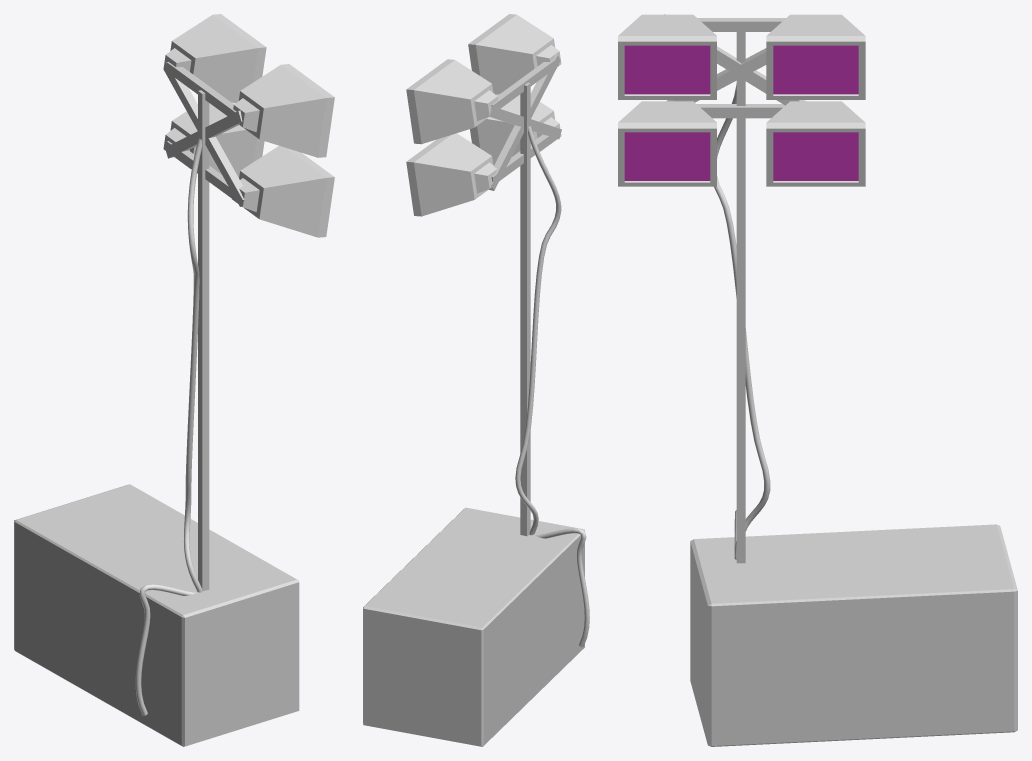
File: Small_Standing_Light.fbx
3 views of the same model, side by side, from view 1: azimuth 30°, elevation 25°; view 2: azimuth 150°, elevation 25°; view 3: azimuth 270°, elevation 25° (orthographic). The views are drawn at different scales.
Parts seen in each view (by area): view 1: Cube.008, Cube.003, Cube.001, Cube.007, Cube.000, BezierCurve, Cube.002, Cube.005, Cube, Cube.006, Cube.004; view 2: Cube.008, Cube.000, Cube.002, Cube.003, Cube.007, BezierCurve, Cube.001, Cube.006, Cube, Cube.004, Cube.005; view 3: Cube.008, Cube.002, Cube.000, Cube.001, Cube.003, Cube.007, BezierCurve, Cube.004, Cube, Cube.005, Cube.006.
Part boxes in pixels (box(x1,y1,x2,y2)): Cube.008: box(14, 484, 299, 746); Cube.003: box(233, 64, 334, 157); Cube.001: box(232, 145, 334, 237); Cube.007: box(198, 90, 209, 591); Cube.000: box(163, 14, 266, 103); BezierCurve: box(135, 138, 202, 715); Cube.002: box(163, 102, 264, 177); Cube.005: box(163, 62, 245, 206); Cube: box(167, 62, 239, 124); Cube.006: box(165, 110, 242, 158); Cube.004: box(167, 141, 239, 203); Cube.008: box(363, 507, 584, 746); Cube.000: box(406, 59, 498, 144); Cube.002: box(406, 133, 499, 216); Cube.003: box(468, 14, 561, 94); Cube.007: box(520, 82, 530, 536); BezierCurve: box(515, 125, 589, 647); Cube.001: box(470, 94, 561, 165); Cube.006: box(488, 54, 560, 190); Cube: box(491, 59, 558, 113); Cube.004: box(491, 129, 558, 185); Cube.005: box(489, 106, 561, 139); Cube.008: box(690, 524, 1017, 746); Cube.002: box(766, 101, 865, 186); Cube.000: box(766, 14, 865, 99); Cube.001: box(618, 101, 716, 186); Cube.003: box(618, 14, 716, 99); Cube.007: box(736, 32, 745, 563); BezierCurve: box(714, 84, 770, 559); Cube.004: box(697, 104, 784, 118); Cube: box(697, 18, 785, 31); Cube.005: box(666, 48, 766, 102); Cube.006: box(664, 14, 805, 105).
Size of the model in its own units: 243 by 983 by 506.
